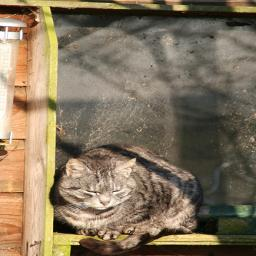catnose: (99, 200, 111, 207)
